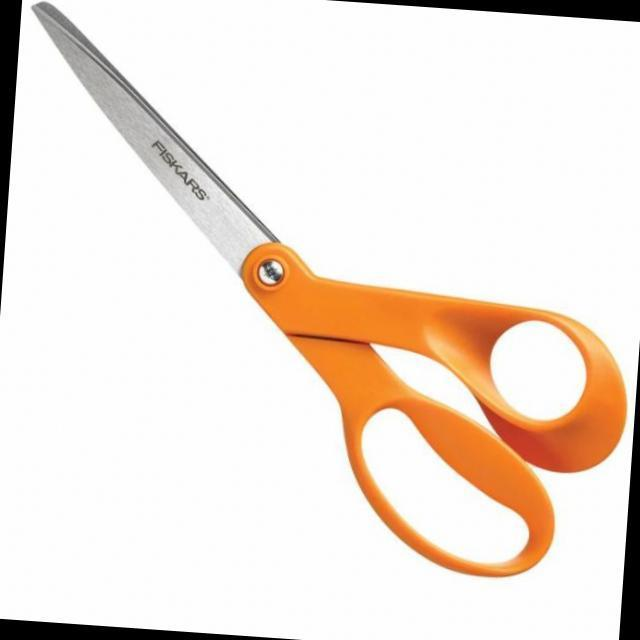scissors: (0, 0, 640, 591)
